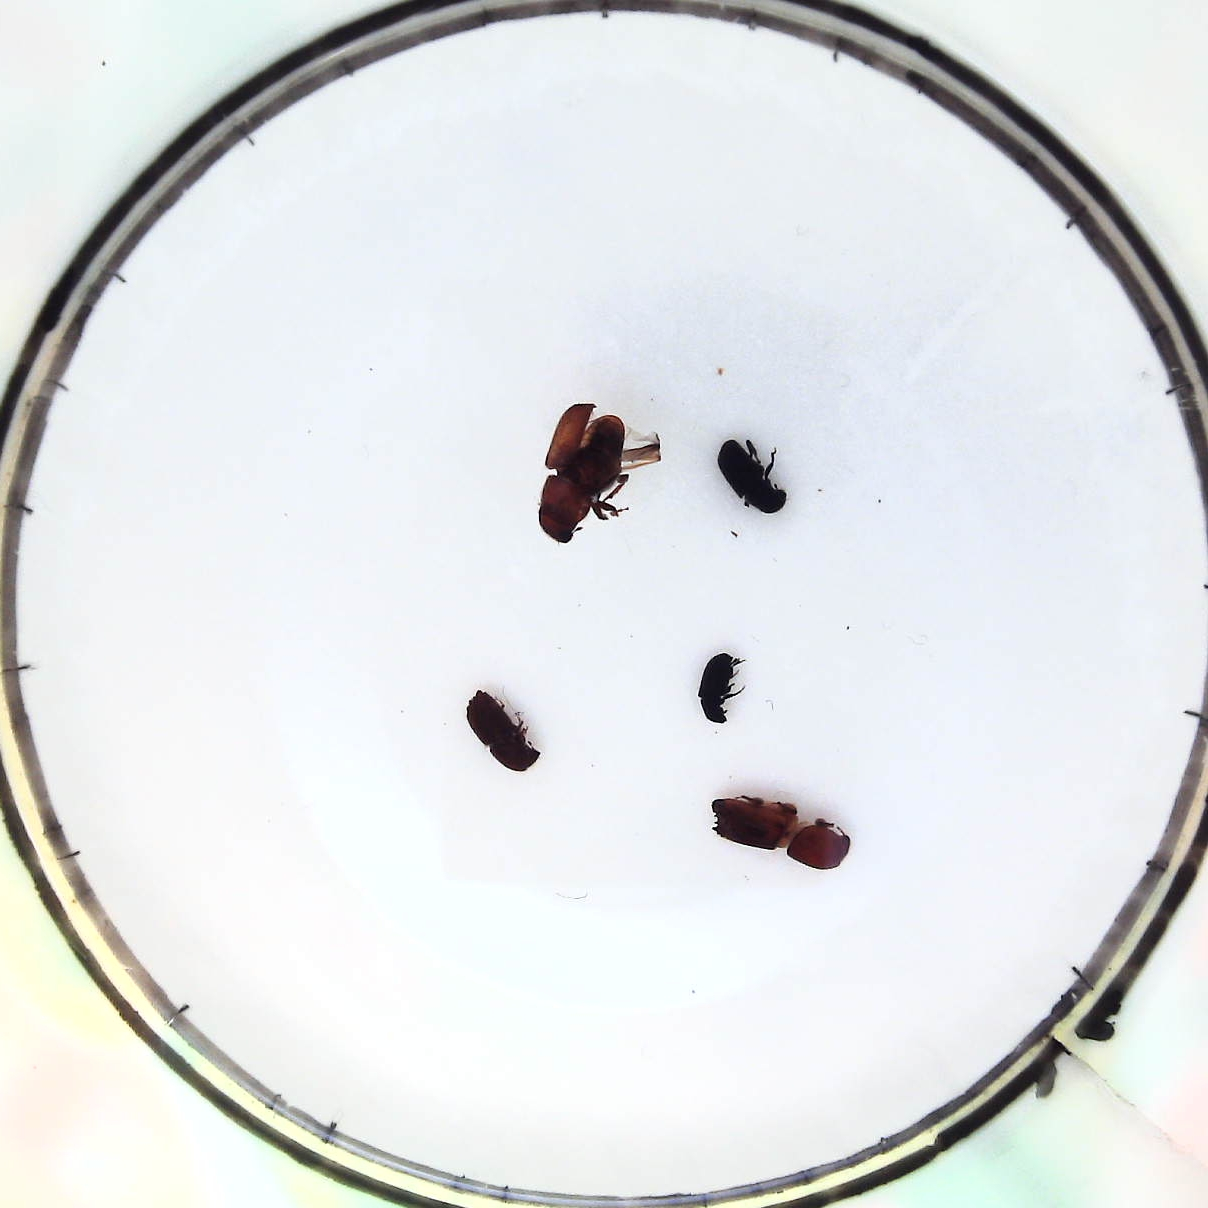Boerner: (709, 782, 846, 872)
Leconte: (537, 400, 662, 545)
Linnaeus: (466, 684, 539, 777)
armandi: (717, 433, 783, 521)
coleoptera: (697, 648, 746, 721)
